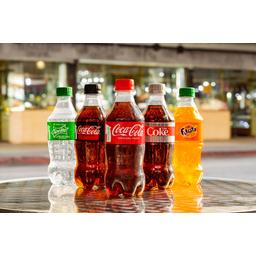plastic: (105, 74, 147, 203), (167, 77, 209, 200), (70, 73, 106, 202), (140, 78, 173, 196), (42, 79, 74, 188)
